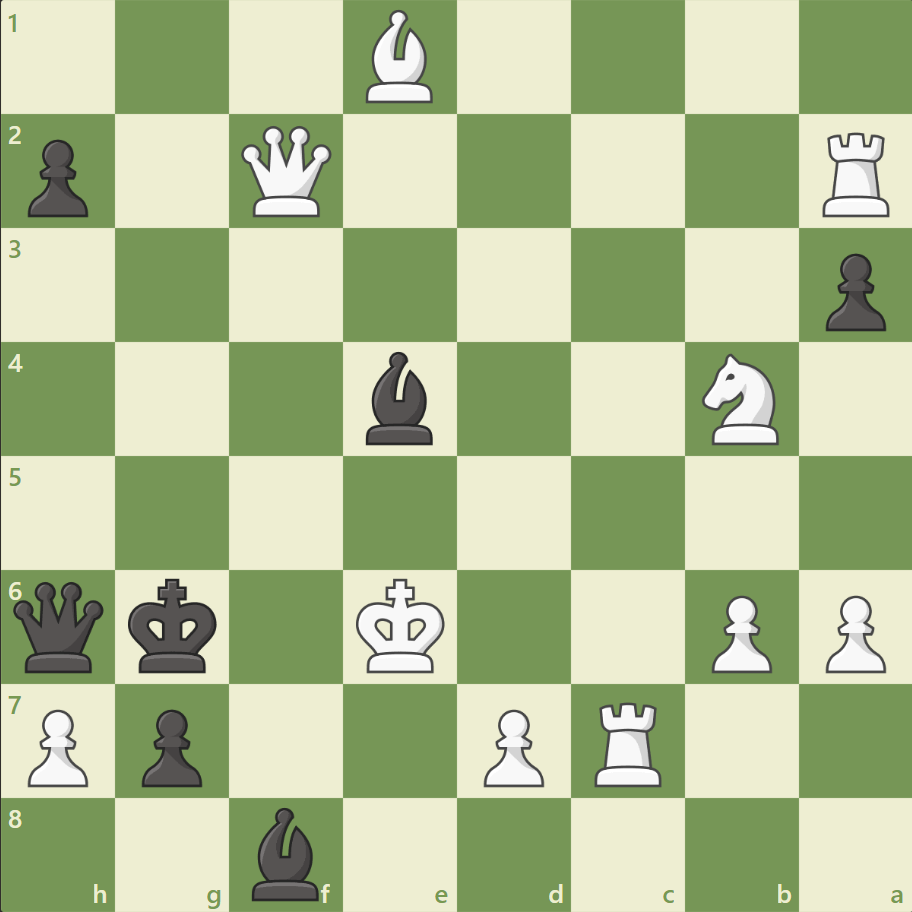B: (358, 6, 442, 109)
K: (351, 571, 451, 679)
N: (692, 348, 789, 450)
P: (474, 700, 549, 791), (20, 700, 95, 791), (701, 586, 776, 677), (815, 586, 889, 677)
Q: (237, 122, 336, 222)
R: (587, 693, 670, 790), (814, 125, 897, 222)
b: (244, 801, 328, 904), (358, 347, 442, 449)
k: (124, 571, 224, 679)
p: (133, 700, 208, 791), (20, 132, 95, 223), (815, 246, 889, 337)
q: (10, 576, 109, 676)
